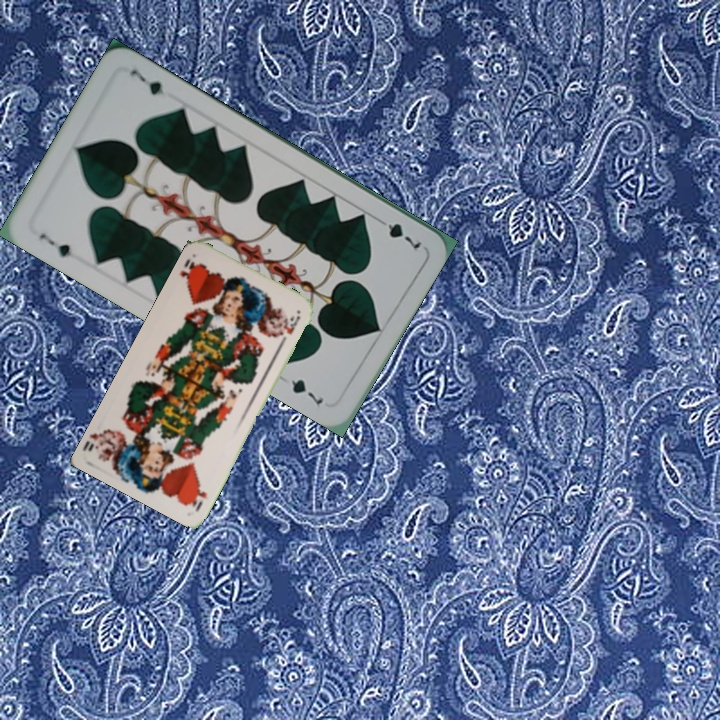G7: (372, 213, 425, 253), (35, 229, 74, 260)
HO: (176, 254, 202, 290), (188, 485, 210, 514)
